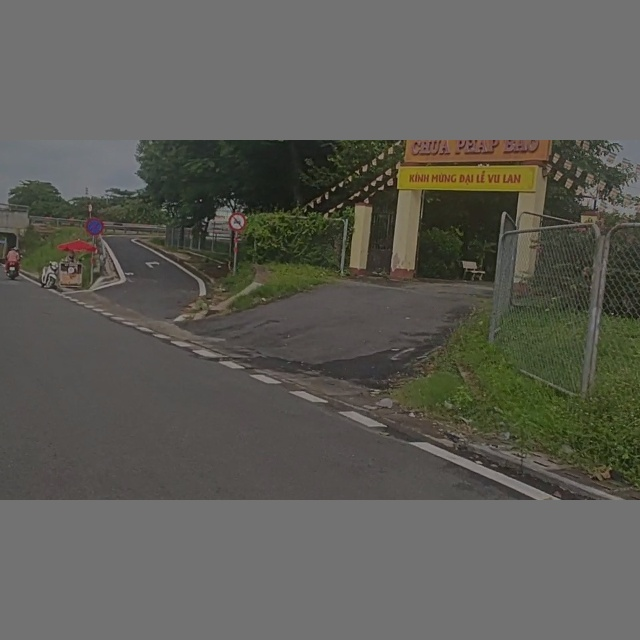P.103a: (227, 213, 247, 231)
P.130: (86, 217, 104, 236)
